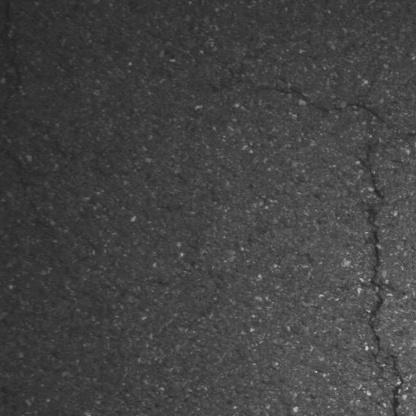Cracks: (270, 87, 394, 130), (363, 211, 390, 367), (383, 351, 409, 416), (364, 142, 389, 206), (405, 130, 416, 143)
